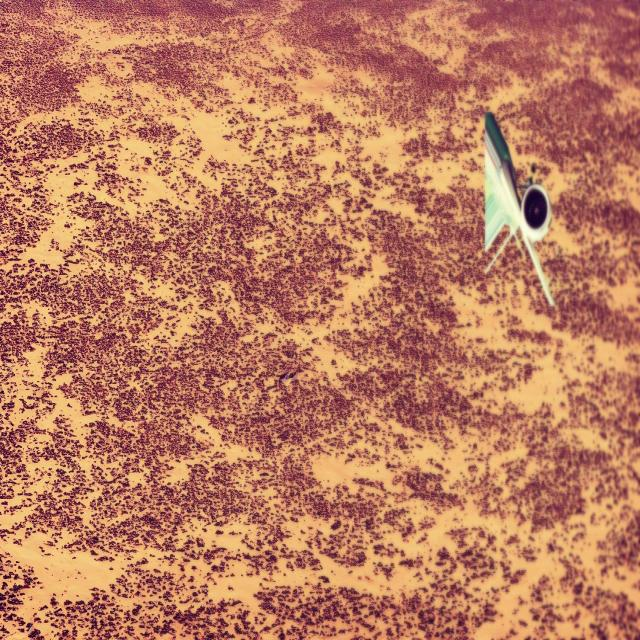airplane: (483, 110, 556, 308)
